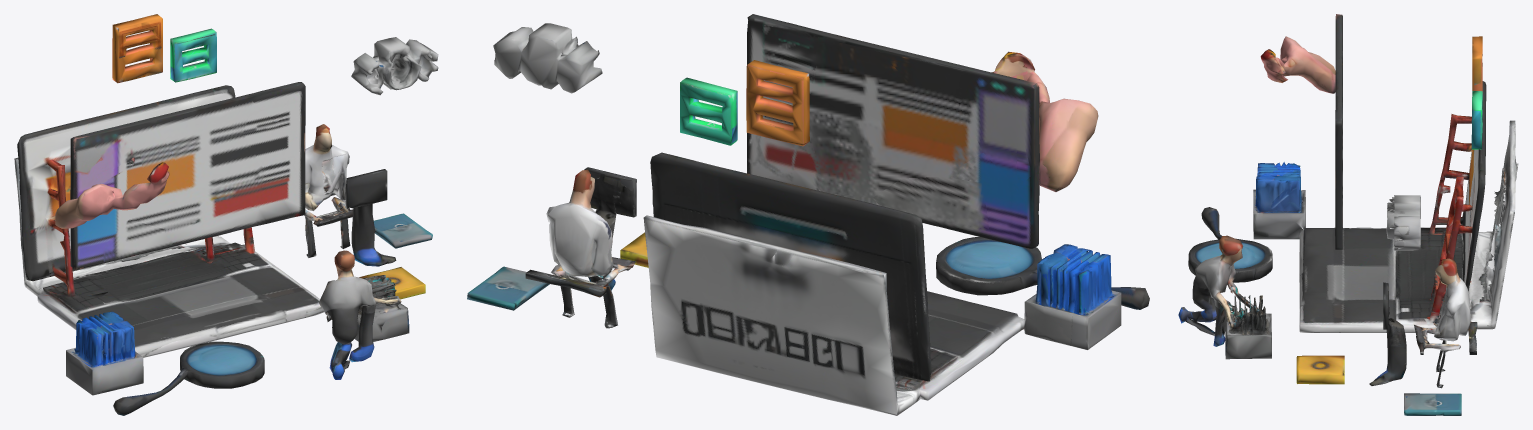
The model's file is web_dev1.glb.
3 views of the same model, side by side, from view 1: azimuth 30°, elevation 25°; view 2: azimuth 150°, elevation 25°; view 3: azimuth 270°, elevation 25° (orthographic). The views are drawn at different scales.
Size of the model in its own units: 2 by 1.21 by 1.45.
1 material, 1 textured.
